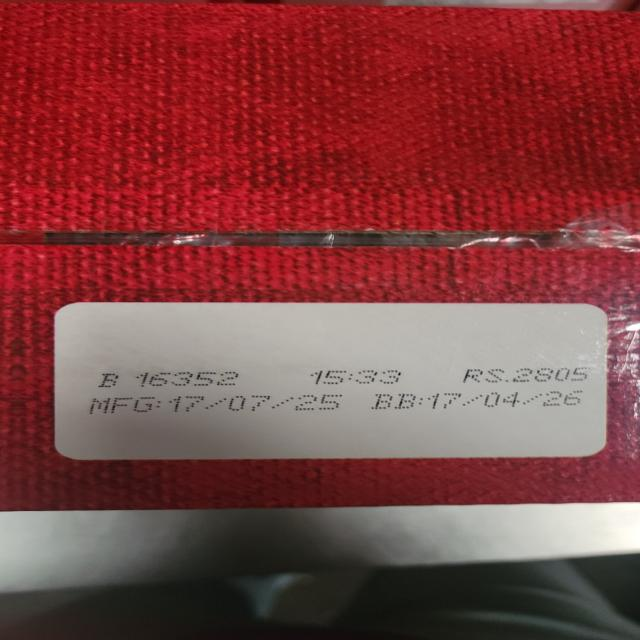BB: (372, 390, 586, 411)
Batch: (98, 371, 244, 387)
MFG: (91, 393, 344, 414)
RS: (462, 367, 594, 384)
TimeStamp: (310, 369, 406, 385)
